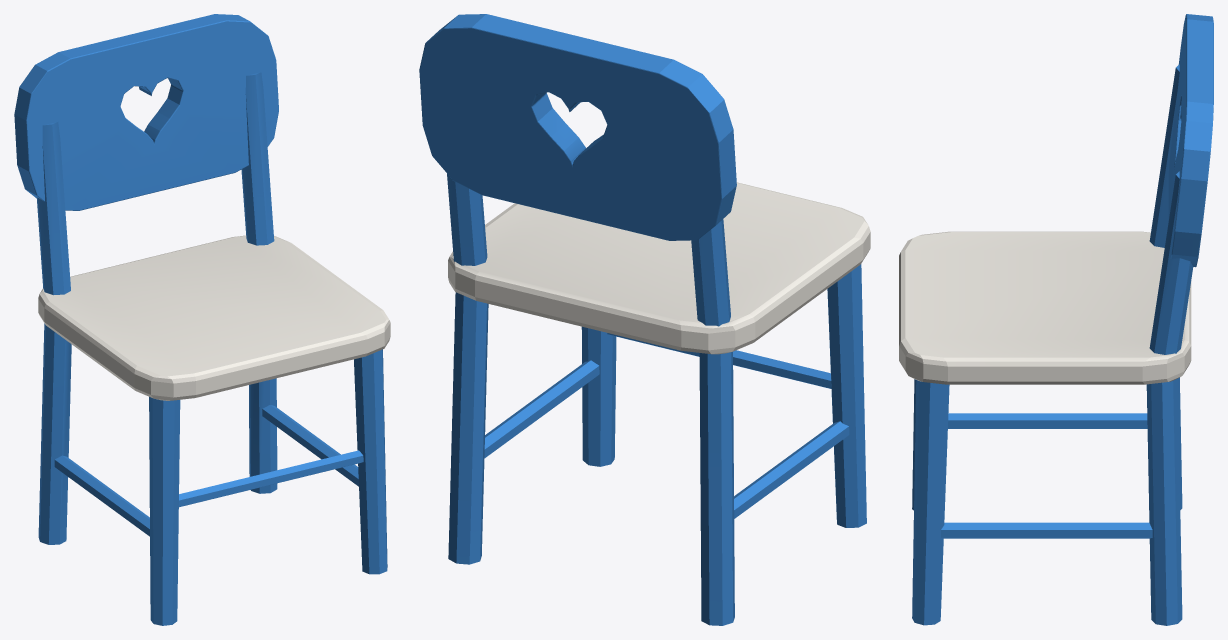
Rendered from kidsChair.glb.
3 views of the same model, side by side, from view 1: azimuth 30°, elevation 25°; view 2: azimuth 150°, elevation 25°; view 3: azimuth 270°, elevation 25° (orthographic). The views are drawn at different scales.
Parts seen in each view (by area): view 1: kidsChair; view 2: kidsChair; view 3: kidsChair.
Part boxes in pixels (x1,y1,x2,y2): kidsChair: (14,14,390,625); kidsChair: (419,14,870,625); kidsChair: (899,14,1213,625).
Bounding box in the file's own units: 0.32 × 0.5713 × 0.3232.
